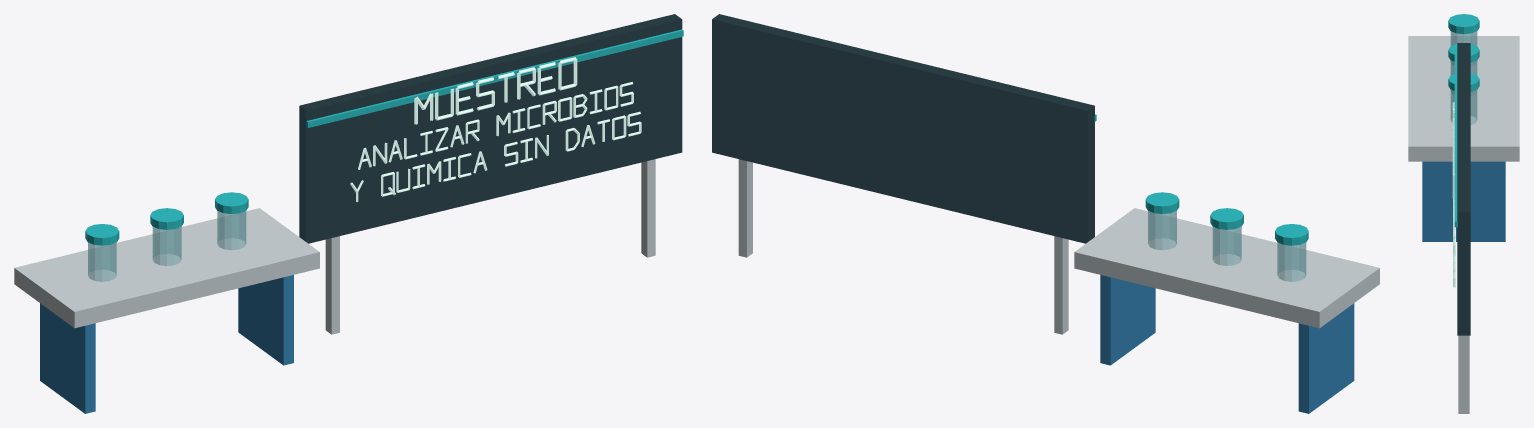
Rendered from AQUA-020.glb.
3 views of the same model, side by side, from view 1: azimuth 30°, elevation 25°; view 2: azimuth 150°, elevation 25°; view 3: azimuth 270°, elevation 25° (orthographic). The views are drawn at different scales.
Parts seen in each view (by area): view 1: AQUA-020; view 2: AQUA-020; view 3: AQUA-020.
Boxes of the visible parts, bbox=[...] form: AQUA-020: bbox=[14, 14, 683, 413]; AQUA-020: bbox=[712, 14, 1379, 413]; AQUA-020: bbox=[1408, 14, 1519, 413].
Bounding box in the file's own units: 6.07 × 2.11 × 1.
